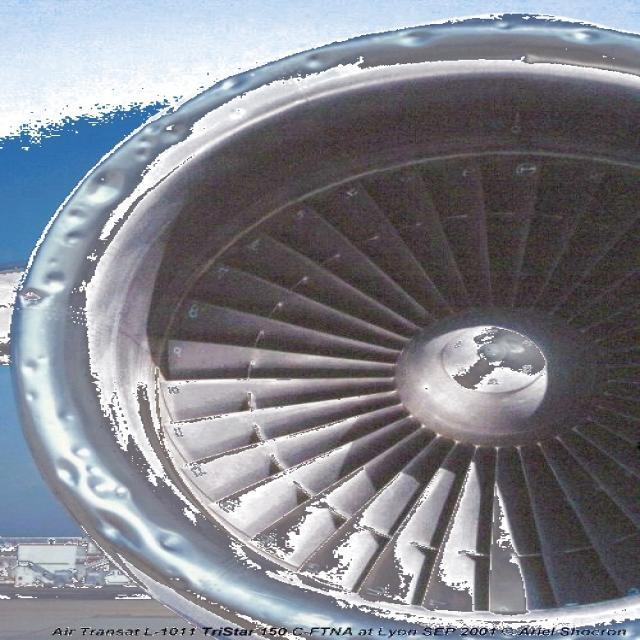dent: (10, 353, 197, 599), (36, 164, 125, 298)
